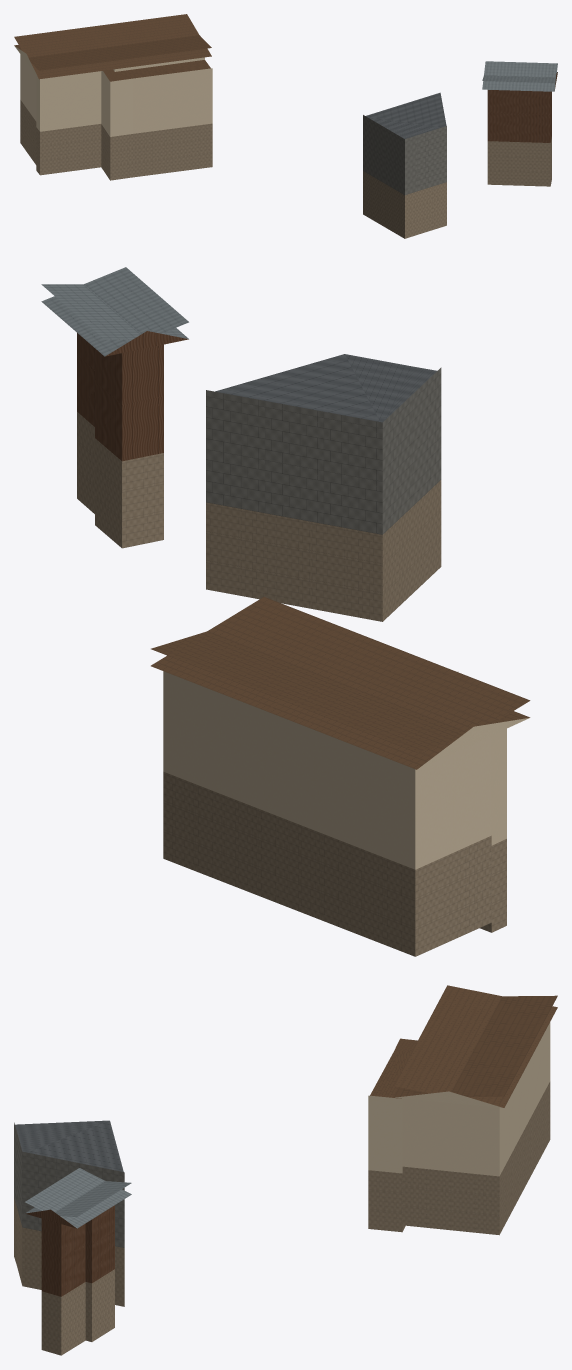
File: bld_c23_47_396.gltf
3 views of the same model, one above another, from view 1: azimuth 30°, elevation 25°; view 2: azimuth 150°, elevation 25°; view 3: azimuth 270°, elevation 25° (orthographic). The views are drawn at different scales.
Parts seen in each view (by area): view 1: bld_c23_47_396; view 2: bld_c23_47_396; view 3: bld_c23_47_396.
Boxes of the visible parts, left/top/right/bottom form: bld_c23_47_396: left=14, top=14, right=557, bottom=238; bld_c23_47_396: left=41, top=267, right=530, bottom=956; bld_c23_47_396: left=14, top=985, right=557, bottom=1355.
Size of the model in its own units: 46.79 by 14.6 by 42.78.
10 materials, 10 textured.
